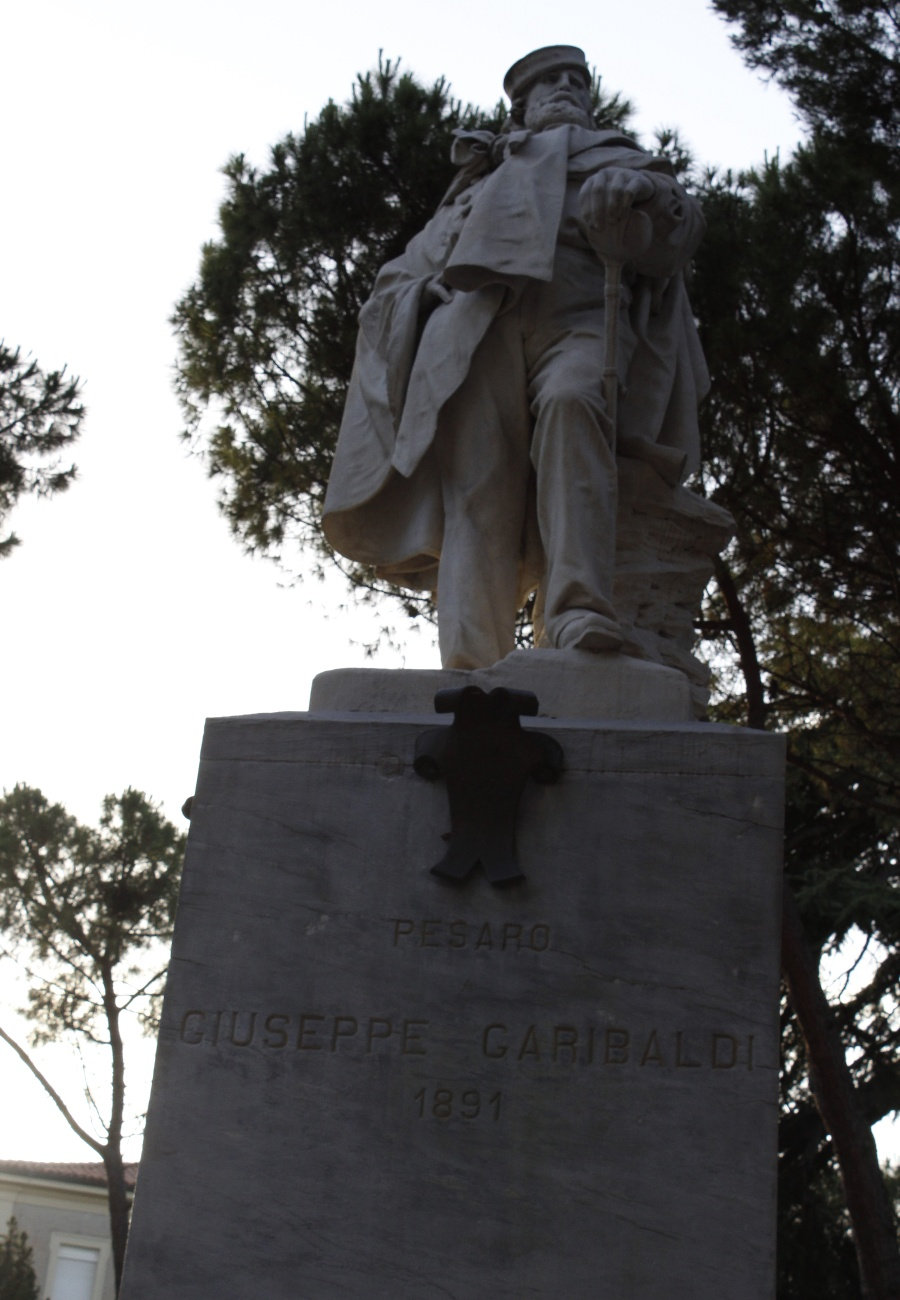Giuseppe Garibaldi: (323, 47, 716, 682)
